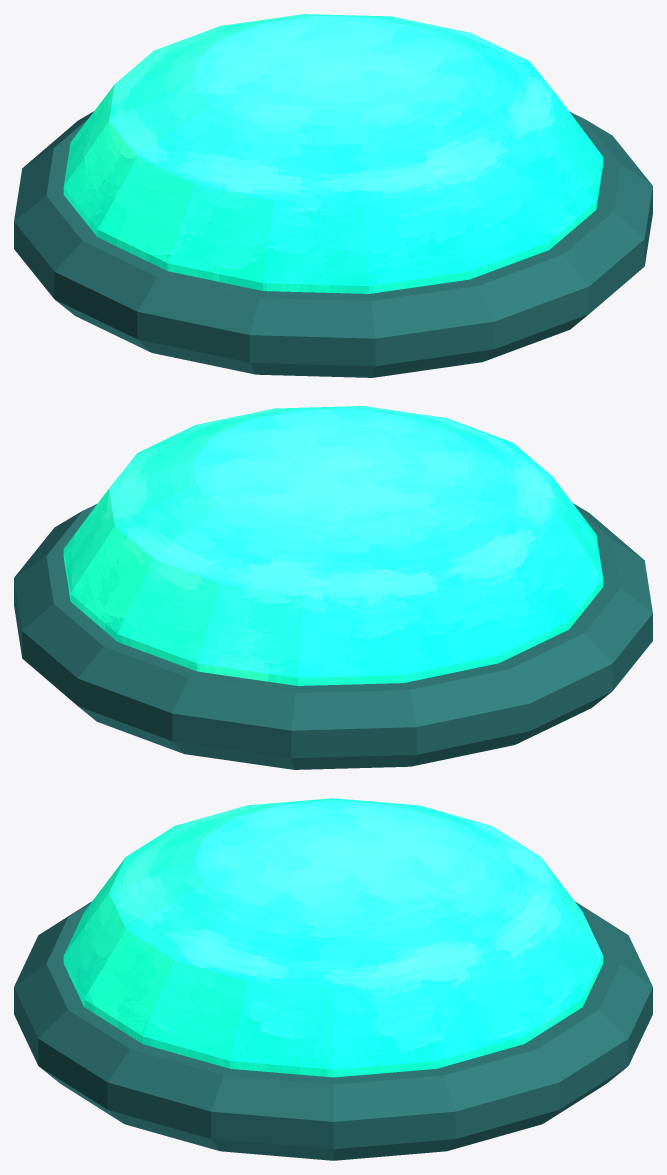
File: part-rim-lens.glb
The picture shows the model from 3 angles, top to bottom: view 1: azimuth 30°, elevation 25°; view 2: azimuth 150°, elevation 25°; view 3: azimuth 270°, elevation 25°; orthographic projection.
Parts seen in each view (by area): view 1: Lens, Lens_Bezel; view 2: Lens, Lens_Bezel; view 3: Lens, Lens_Bezel.
Part boxes in pixels (x1,y1,x2,y2): Lens: [63, 14, 603, 293]; Lens_Bezel: [14, 111, 652, 377]; Lens: [63, 406, 603, 685]; Lens_Bezel: [14, 503, 652, 769]; Lens: [63, 798, 603, 1077]; Lens_Bezel: [14, 901, 652, 1160].
Size of the model in its own units: 0.296 by 0.095 by 0.296.
Materials: 2 (1 with a texture image).
